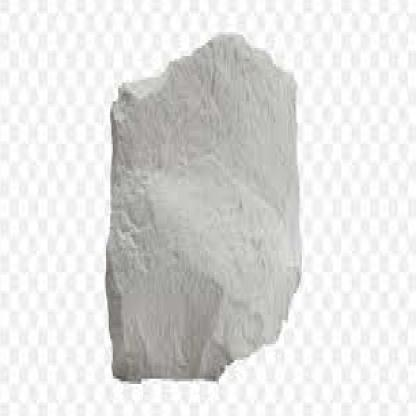Sedimentary_Chalk: (88, 22, 310, 390)
